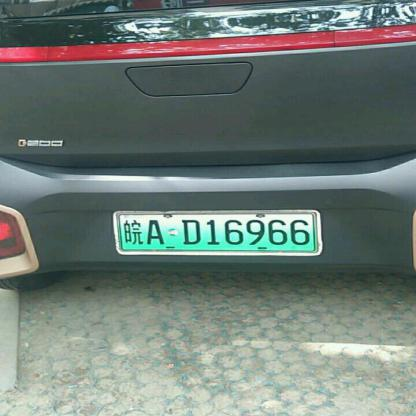lp: (119, 214, 314, 250)
